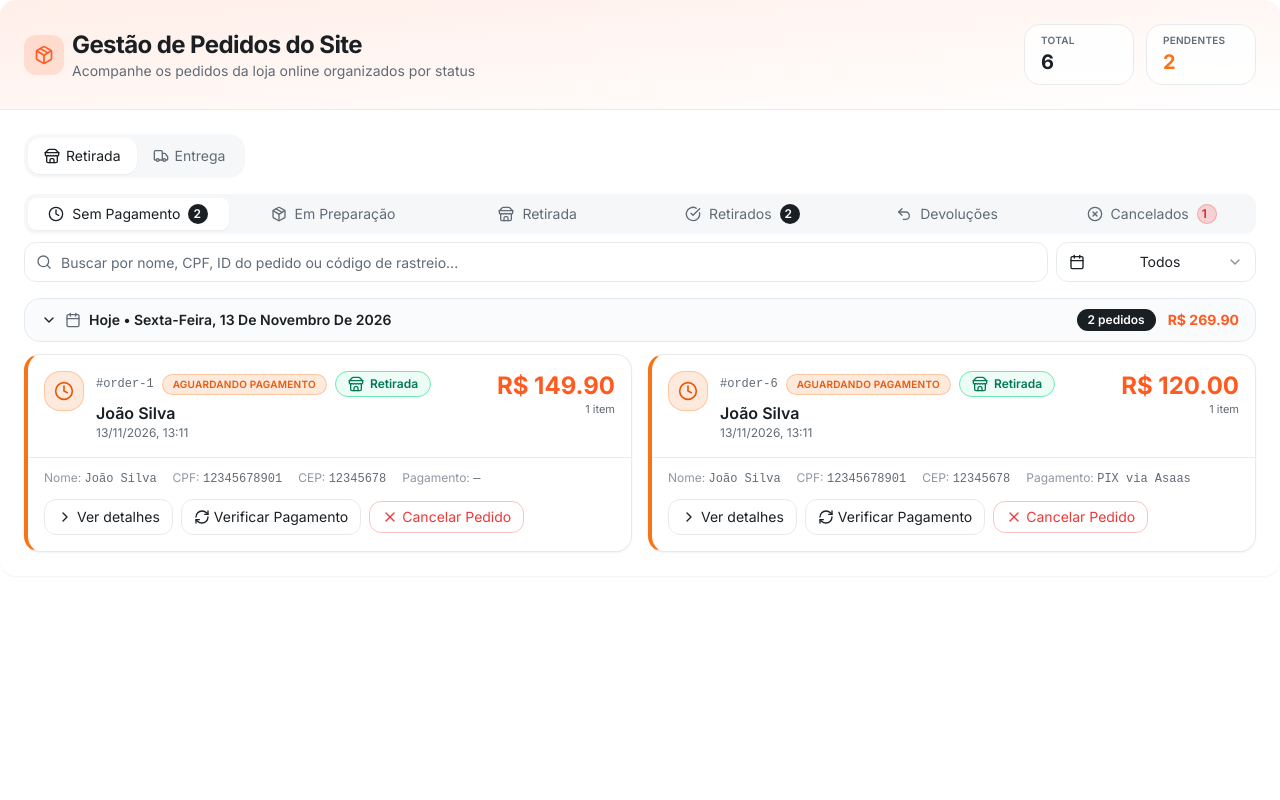
Test: OrdersManagement — fluxo de cancelamento e estorno › pedido entregado (delivery) exibe botão "Solicitar Devolução"
# Clica no botão "Entrega" do segmented control
Click the button "Entrega". click: (189, 156)
box: [136,138,241,174]
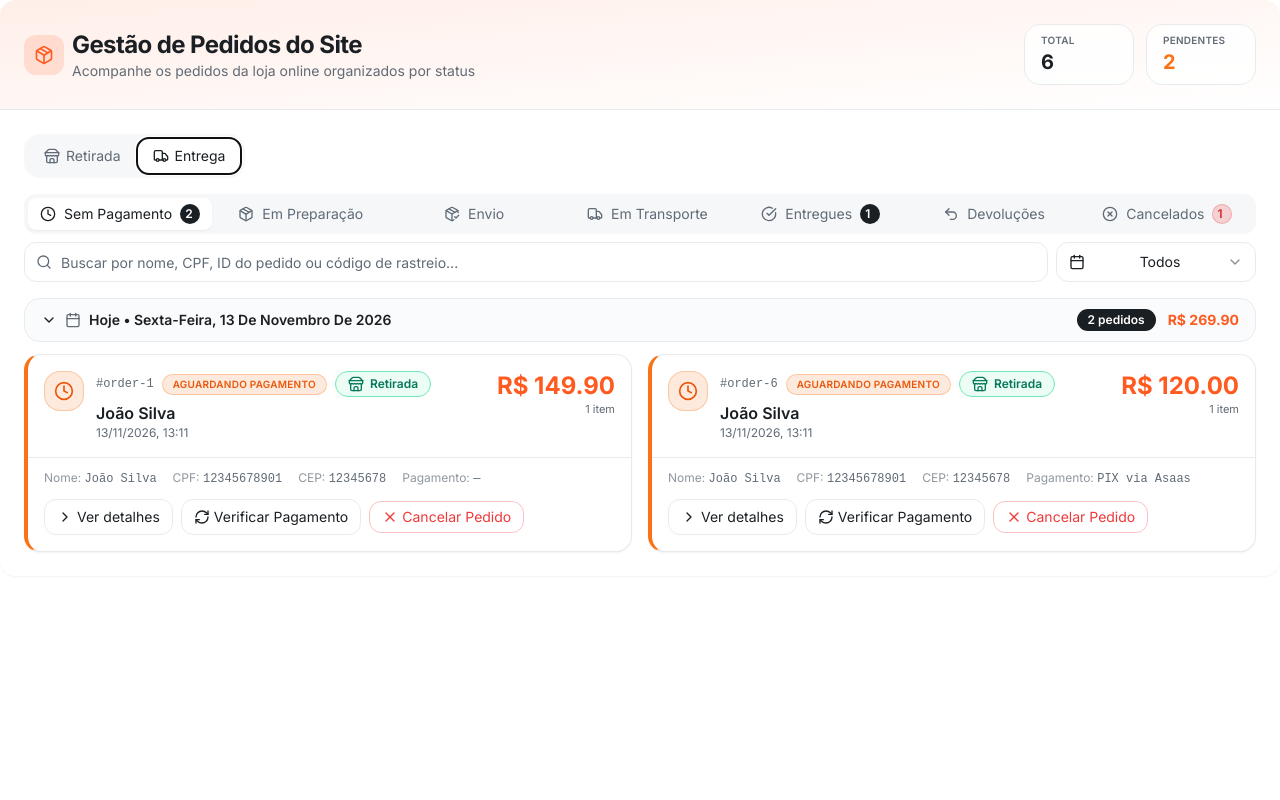
# Clica na aba "Entregues"
Click the tab "Entregues 1". click: (821, 214)
box: [736,198,905,230]
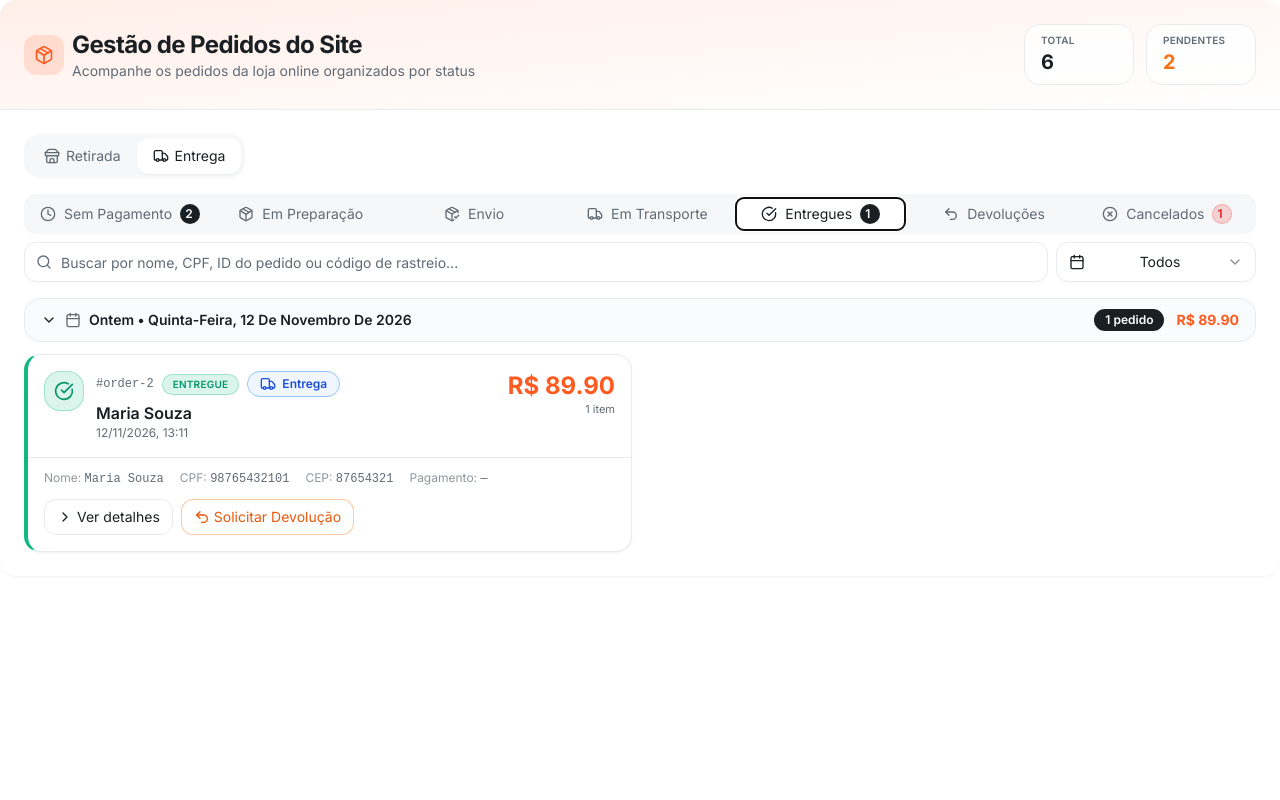
Result: the number of buttons "Solicitar Devolução" is 1 at [181,499,354,535]
